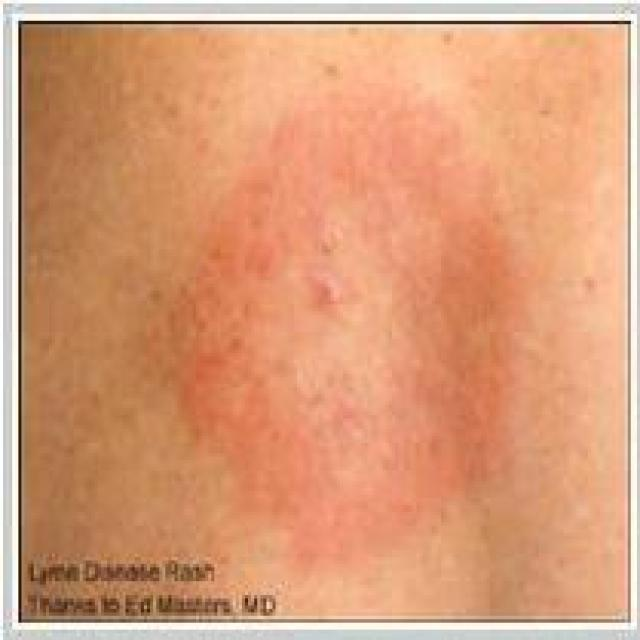kene: (82, 39, 622, 563)
